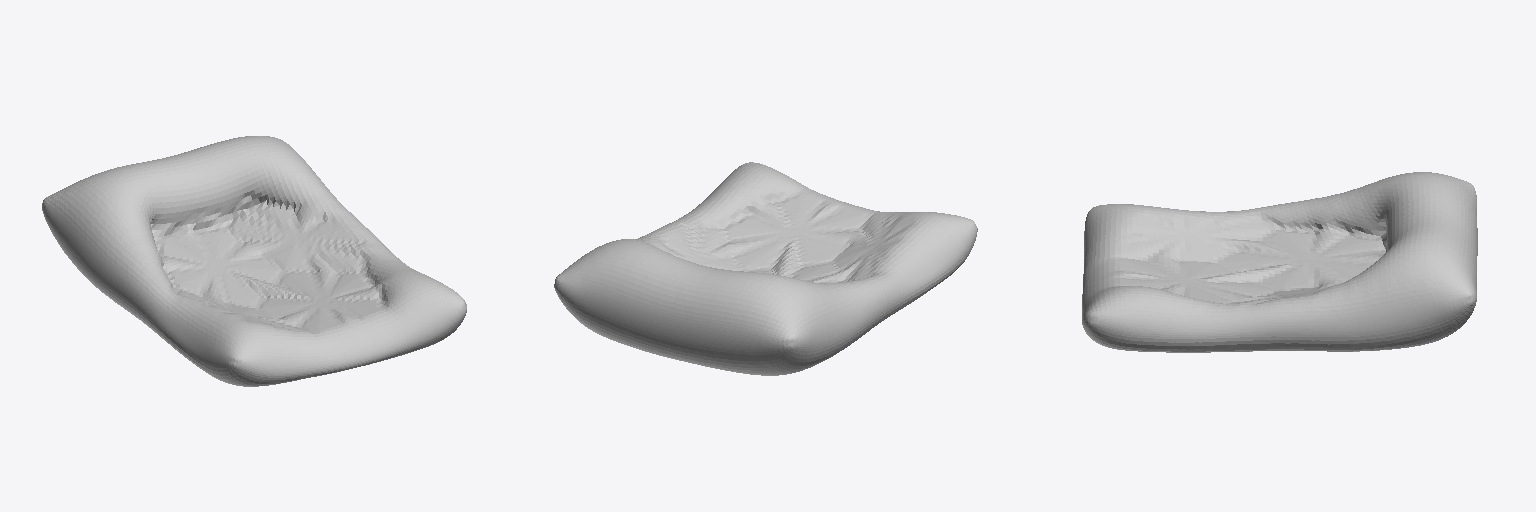
File: Vacuum lock.obj
3 views of the same model, side by side, from view 1: azimuth 30°, elevation 25°; view 2: azimuth 150°, elevation 25°; view 3: azimuth 270°, elevation 25° (orthographic).
Visible parts, largest first — view 1: pCube2; view 2: pCube2; view 3: pCube2.
Boxes of the visible parts, box(x1,y1,x2,y2) form: pCube2: box(42, 136, 466, 386); pCube2: box(554, 162, 977, 375); pCube2: box(1082, 172, 1477, 352).
Bounding box in the file's own units: 7.57 × 2.73 × 10.56.